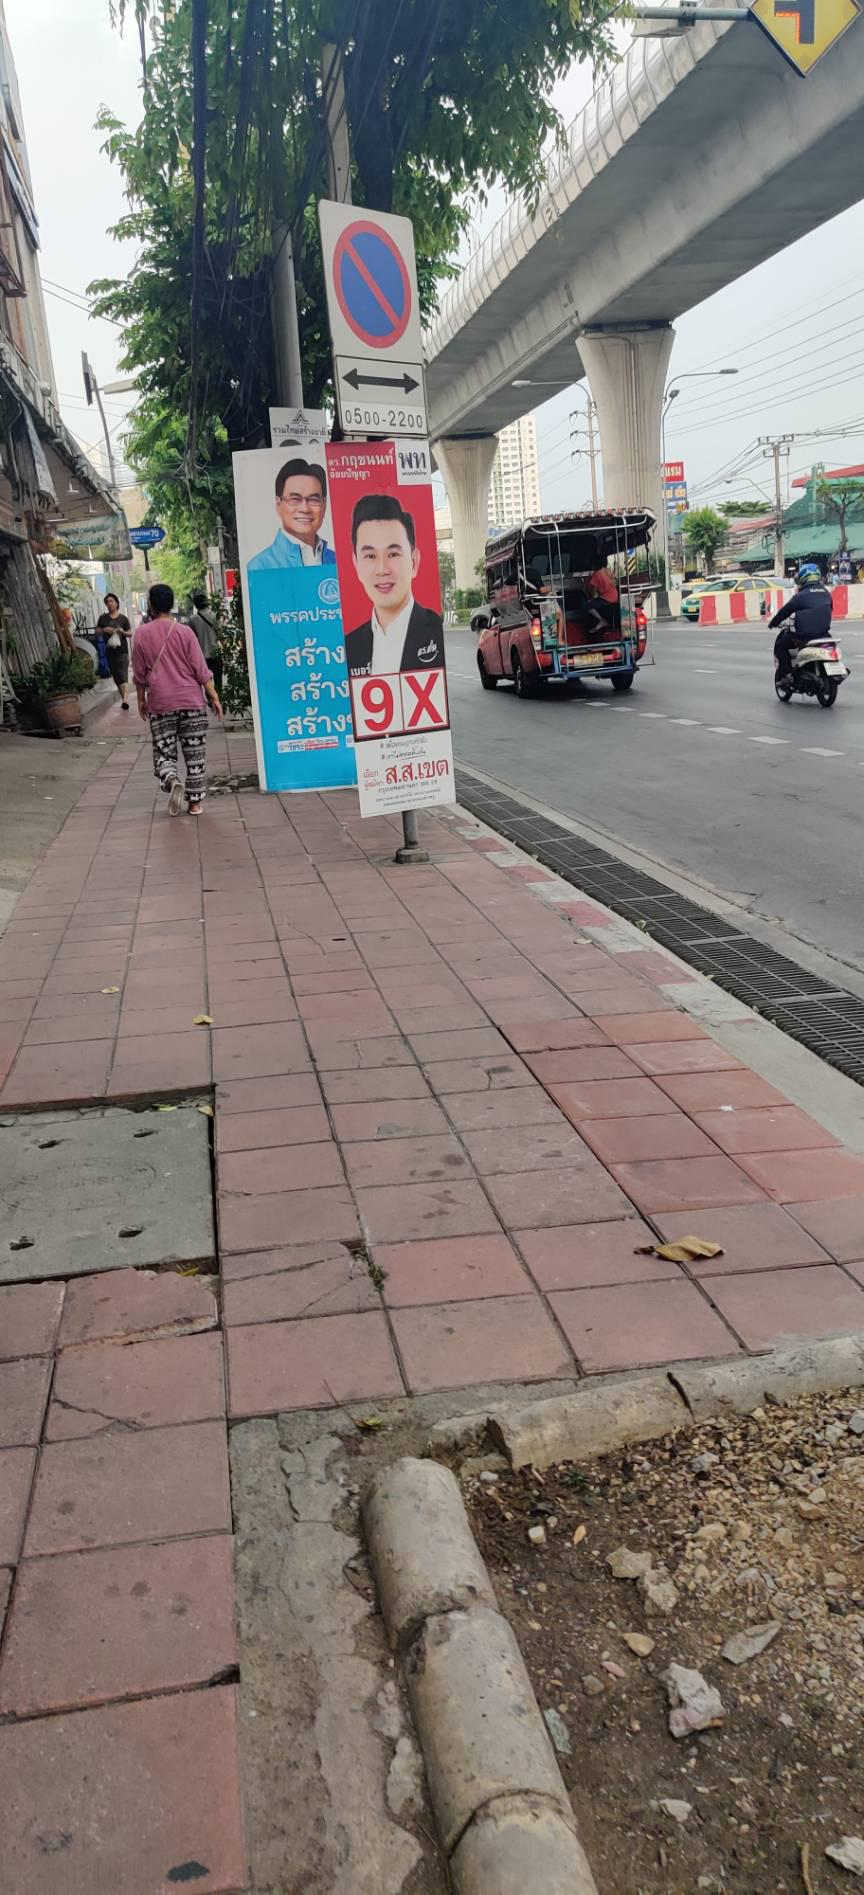Banner: (230, 465, 361, 798), (366, 437, 434, 828)
